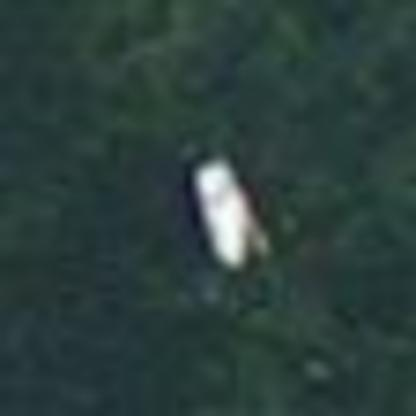ship: (177, 141, 287, 277)
